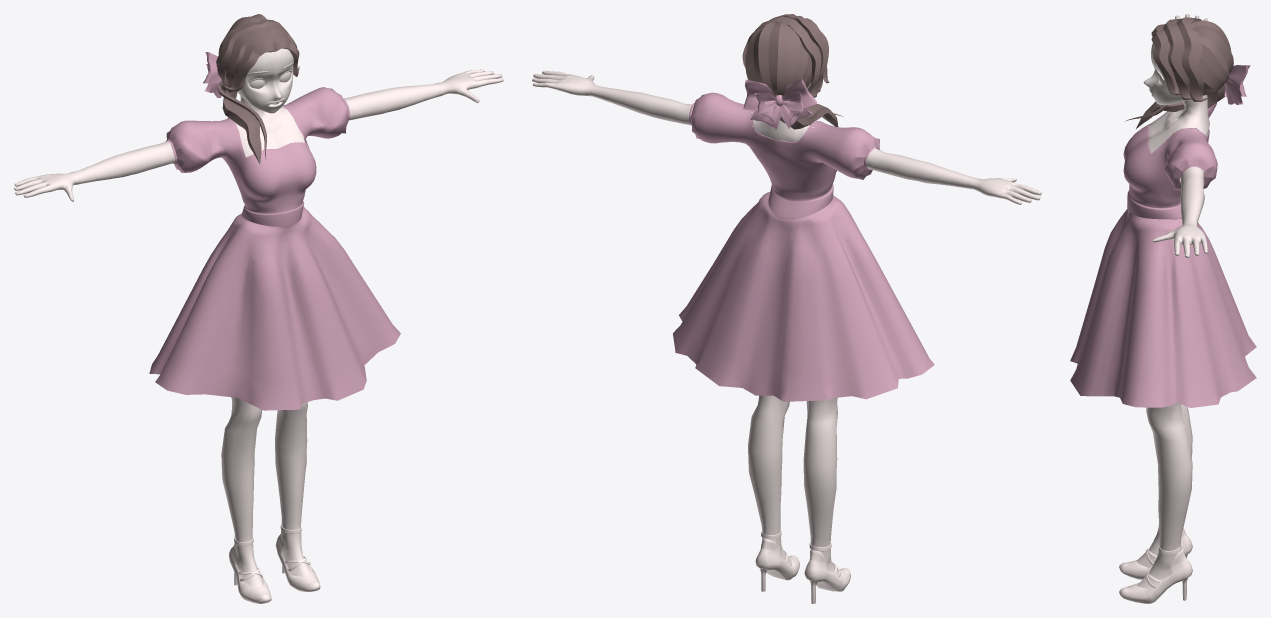
The model's file is kamyu.fbx.
3 renders of one model, left to right at view 1: azimuth 30°, elevation 25°; view 2: azimuth 150°, elevation 25°; view 3: azimuth 270°, elevation 25°, orthographic. The views are drawn at different scales.
Parts seen in each view (by area): view 1: group3_clothes1, group3_sweep7, group3_Fh, group3_group1; view 2: group3_clothes1, group3_sweep7, group3_Fh; view 3: group3_clothes1, group3_sweep7, group3_Fh, group3_group1.
Part boxes in pixels (x1,y1,x2,y2): group3_clothes1: (149, 52, 400, 410); group3_sweep7: (14, 69, 503, 603); group3_Fh: (216, 14, 299, 164); group3_group1: (237, 48, 293, 113); group3_clothes1: (673, 78, 934, 401); group3_sweep7: (532, 70, 1041, 603); group3_Fh: (742, 14, 843, 129); group3_clothes1: (1070, 65, 1256, 407); group3_sweep7: (1119, 14, 1209, 603); group3_Fh: (1125, 17, 1233, 128); group3_group1: (1143, 43, 1186, 105).
Bounding box in the file's own units: 151 × 165 × 49.32.
